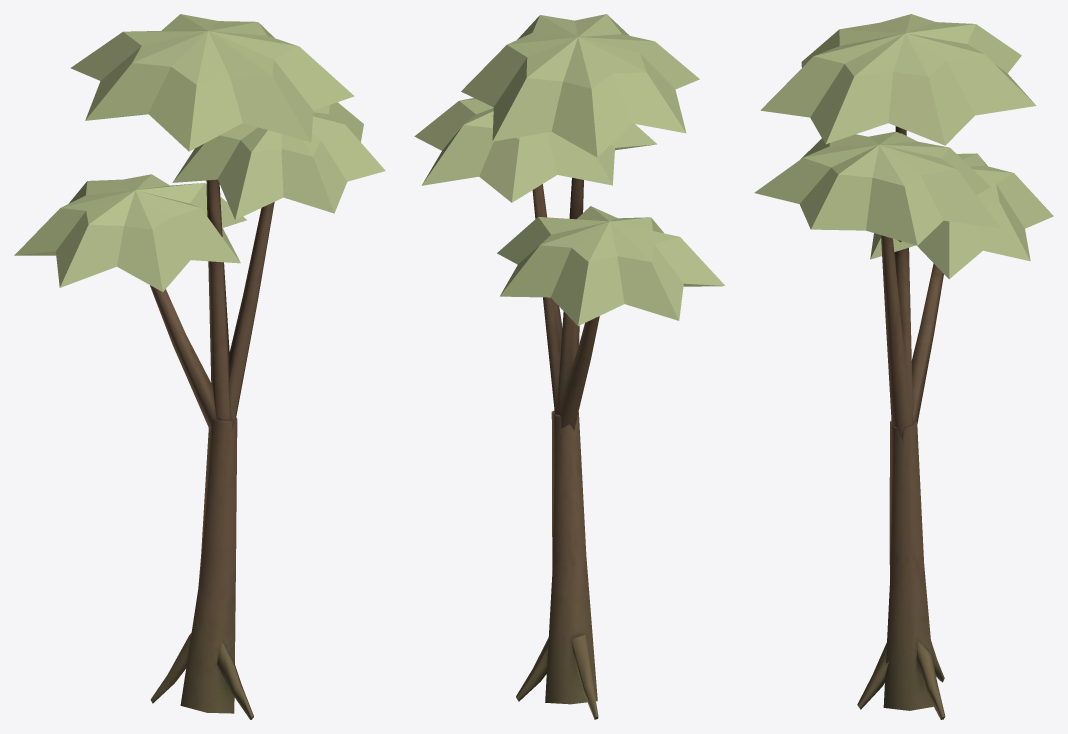
The model's file is arv_acacia_1.glb.
3 renders of one model, left to right at view 1: azimuth 30°, elevation 25°; view 2: azimuth 150°, elevation 25°; view 3: azimuth 270°, elevation 25°, orthographic. The views are drawn at different scales.
Visible parts, largest first — view 1: arv_acacia_1_corpo; view 2: arv_acacia_1_corpo; view 3: arv_acacia_1_corpo.
Part boxes in pixels (bbox=[...]): arv_acacia_1_corpo: bbox=[14, 14, 385, 719]; arv_acacia_1_corpo: bbox=[414, 14, 724, 719]; arv_acacia_1_corpo: bbox=[754, 14, 1053, 719].
Bounding box in the file's own units: 0.9419 × 1.96 × 0.7975.
Materials: 2 (1 with a texture image).
